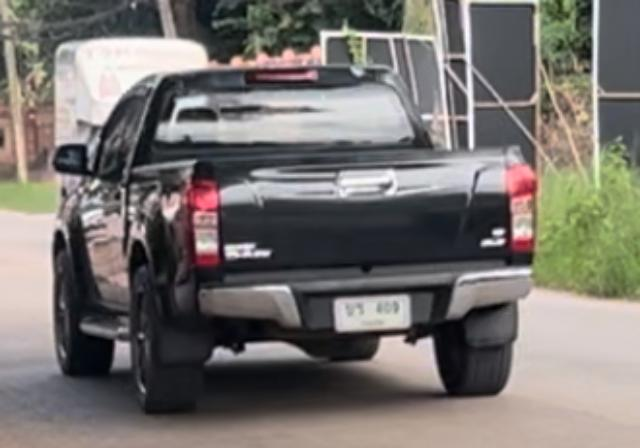pickup-truck: (47, 59, 546, 418)
